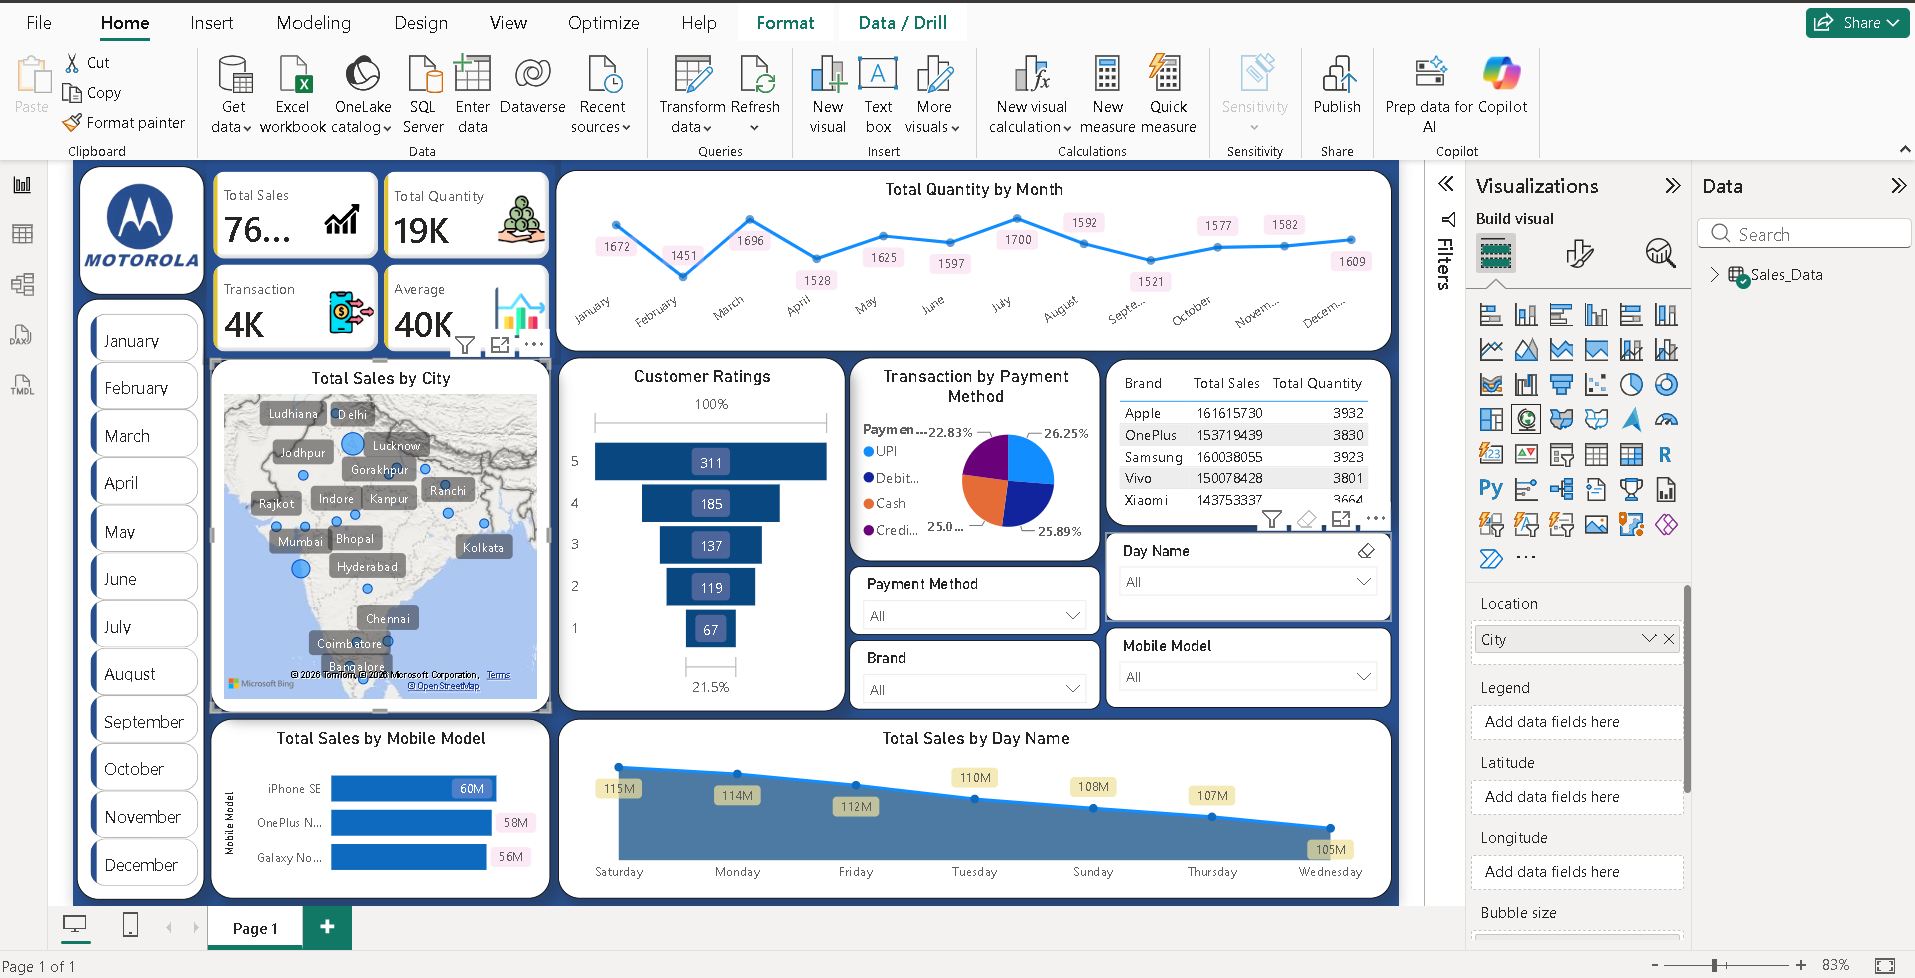

Layout of this report page (visuals, bound fields, positions):
{"tool":"powerbi","page":{"name":"Page 1","canvas":[1280,720],"ordinal":0},"visuals":[{"type":"shape","box":[6,6,120.6,124.3],"z":0},{"type":"image","box":[0,2.4,130.3,117],"z":1000},{"type":"shape","box":[3.6,133.9,123.1,580.3],"z":2000},{"type":"advancedSlicerVisual","fields":{"Values":["Sales_Data.Date.Variation.Date Hierarchy.Month"]},"box":[12.1,143.6,114.6,562.2],"z":3000},{"type":"cardVisual","fields":{"Data":["Sales_Data.Total Sales","Sales_Data.Total Quantity","Sales_Data.Transaction","Sales_Data.Average"]},"box":[124.3,0,347.5,197.9],"z":4000},{"type":"map","fields":{"Category":["Sales_Data.City"],"Size":["Sales_Data.Total Sales"]},"box":[132.7,191.8,328.2,341.4],"z":5000},{"type":"lineChart","fields":{"Y":["Sales_Data.Total Quantity"],"Category":["Sales_Data.Date.Variation.Date Hierarchy.Month","Sales_Data.Date.Variation.Date Hierarchy.Day"]},"box":[465.7,9.7,807.1,174.9],"z":6000},{"type":"barChart","fields":{"Category":["Sales_Data.Mobile Model"],"Y":["Sales_Data.Total Sales"]},"box":[132.7,539.3,328.2,173.7],"z":7000},{"type":"pieChart","fields":{"Category":["Sales_Data.Payment Method"],"Y":["Sales_Data.Transaction"]},"box":[749.2,190.6,242.5,196.6],"z":8000},{"type":"funnel","title":"Customer Ratings","fields":{"Category":["Sales_Data.Customer Ratings"],"Y":["CountNonNull(Sales_Data.Customer Ratings)"]},"box":[468.1,190.6,277.5,341.4],"z":9000},{"type":"areaChart","fields":{"Category":["Sales_Data.Day Name"],"Y":["Sales_Data.Total Sales"]},"box":[468.1,539.3,804.7,173.7],"z":10000},{"type":"tableEx","fields":{"Values":["Sales_Data.Brand","Sales_Data.Total Sales","Sales_Data.Total Quantity"]},"box":[996.5,191.8,276.3,161.7],"z":11000},{"type":"slicer","fields":{"Values":["Sales_Data.Day Name"]},"box":[996.5,359.5,276.3,85.7],"z":12000},{"type":"slicer","fields":{"Values":["Sales_Data.Brand"]},"box":[749.2,463.3,242.5,67.6],"z":13000},{"type":"slicer","fields":{"Values":["Sales_Data.Payment Method"]},"box":[749.2,392.1,242.5,66.4],"z":14000},{"type":"slicer","fields":{"Values":["Sales_Data.Mobile Model"]},"box":[996.5,451.2,276.3,77.2],"z":15000}]}

Visuals, with their boxes on the page's 1280x720 design canvas (x1, y1, x2, y2). These are canvas units, not pixel positions in the 1915x978 screenshot, which may show the page scaled, cropped or inside an application window:
shape: [left=6, top=6, right=127, bottom=130]
image: [left=0, top=2, right=130, bottom=119]
shape: [left=4, top=134, right=127, bottom=714]
advancedSlicerVisual - Sales_Data.Date.Variation.Date Hierarchy.Month: [left=12, top=144, right=127, bottom=706]
cardVisual - Sales_Data.Total Sales x Sales_Data.Total Quantity: [left=124, top=0, right=472, bottom=198]
map - Sales_Data.City x Sales_Data.Total Sales: [left=133, top=192, right=461, bottom=533]
lineChart - Sales_Data.Total Quantity x Sales_Data.Date.Variation.Date Hierarchy.Month: [left=466, top=10, right=1273, bottom=185]
barChart - Sales_Data.Mobile Model x Sales_Data.Total Sales: [left=133, top=539, right=461, bottom=713]
pieChart - Sales_Data.Payment Method x Sales_Data.Transaction: [left=749, top=191, right=992, bottom=387]
"Customer Ratings" funnel: [left=468, top=191, right=746, bottom=532]
areaChart - Sales_Data.Day Name x Sales_Data.Total Sales: [left=468, top=539, right=1273, bottom=713]
tableEx - Sales_Data.Brand x Sales_Data.Total Sales: [left=996, top=192, right=1273, bottom=354]
slicer - Sales_Data.Day Name: [left=996, top=360, right=1273, bottom=445]
slicer - Sales_Data.Brand: [left=749, top=463, right=992, bottom=531]
slicer - Sales_Data.Payment Method: [left=749, top=392, right=992, bottom=458]
slicer - Sales_Data.Mobile Model: [left=996, top=451, right=1273, bottom=528]
